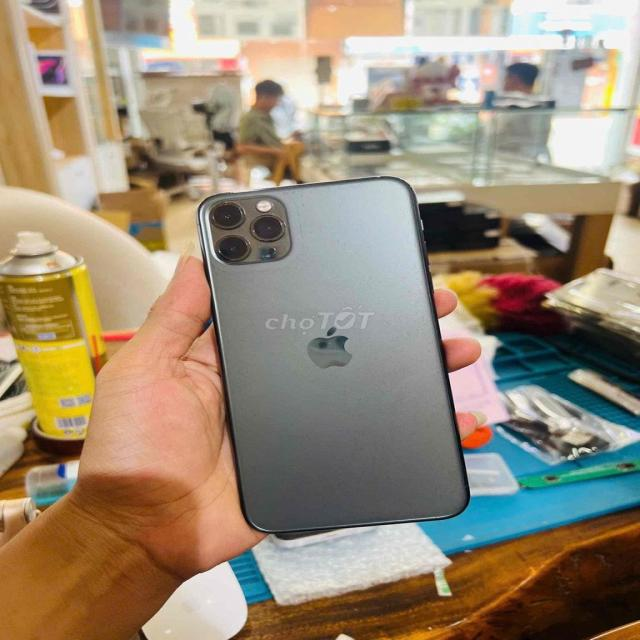scratch: (277, 182, 411, 220), (210, 194, 245, 220)
